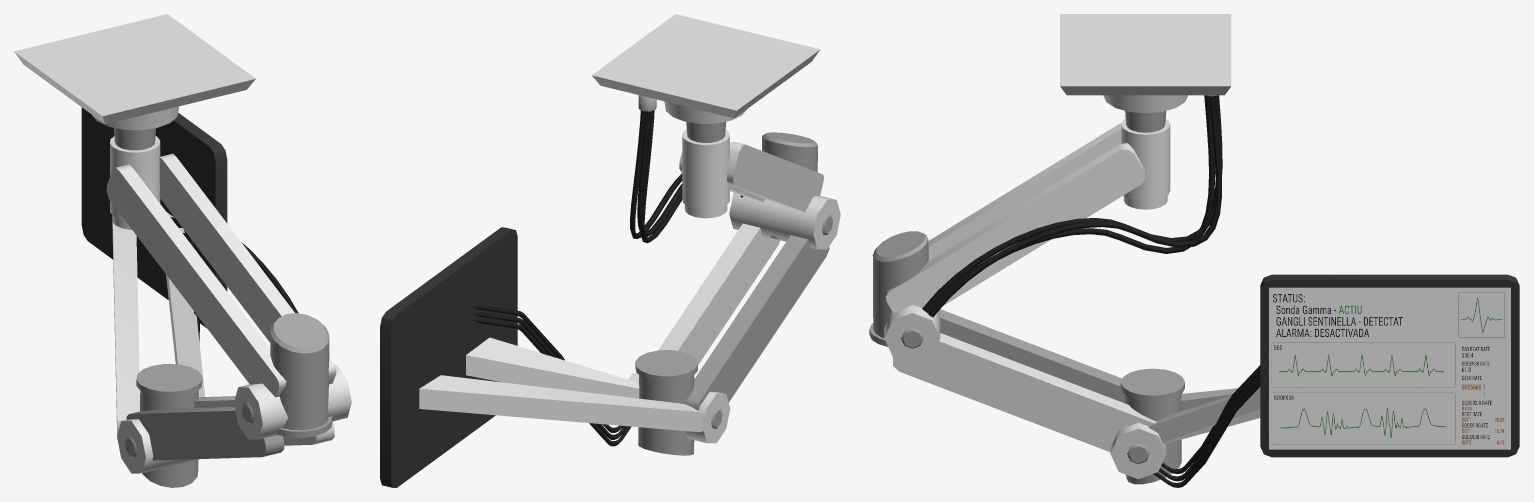
The model's file is Monitor.fbx.
3 renders of one model, left to right at view 1: azimuth 30°, elevation 25°; view 2: azimuth 150°, elevation 25°; view 3: azimuth 270°, elevation 25°, orthographic. The views are drawn at different scales.
Visible parts, largest first — view 1: Cylinder.006; view 2: Cylinder.006; view 3: Cylinder.006.
Boxes of the visible parts, box(x1,y1,x2,y2) form: Cylinder.006: box(14, 14, 351, 487); Cylinder.006: box(380, 14, 840, 487); Cylinder.006: box(869, 14, 1519, 487).
Size of the model in its own units: 65.36 by 167 by 116.
Materials: 5 (1 with a texture image).
